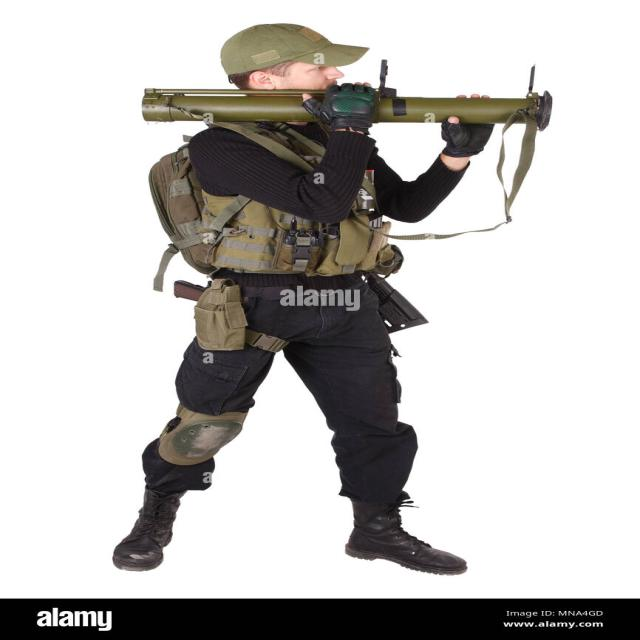bazooka: (116, 55, 597, 149)
